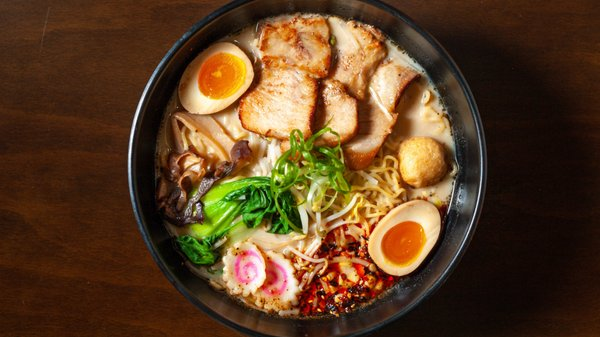sushi: (128, 4, 495, 332)
taco: (178, 41, 253, 116)
